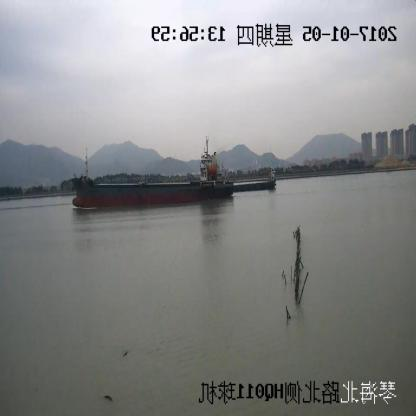Bulk Carrier: (72, 141, 235, 206), (236, 170, 276, 192)
